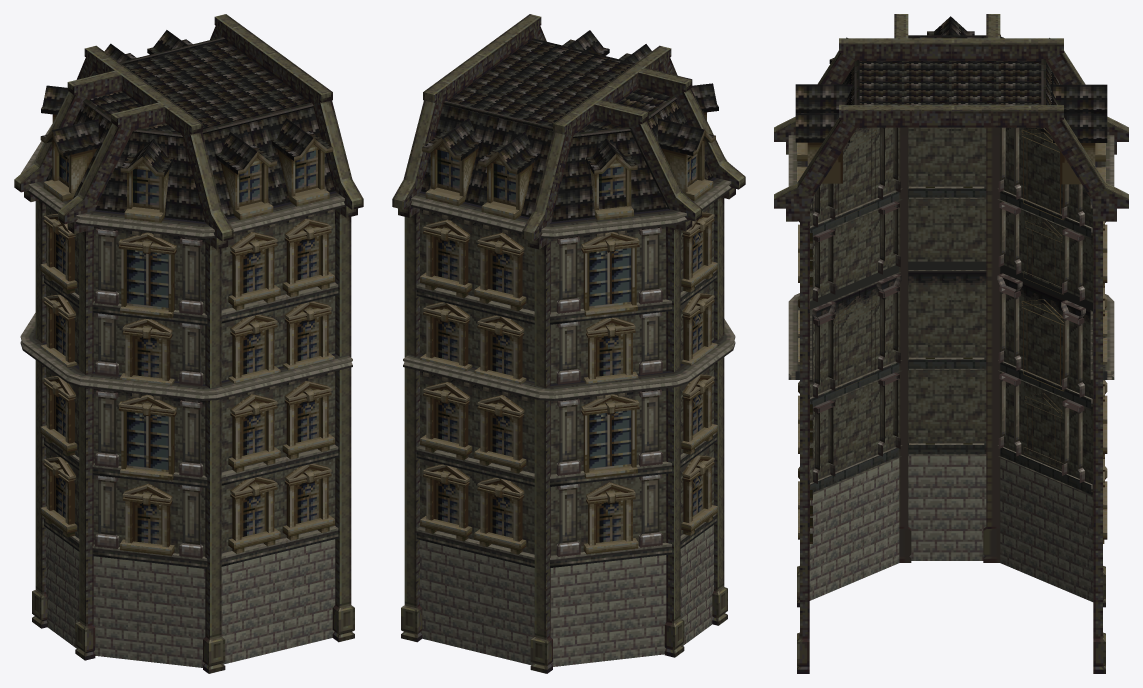
File: EnvBdgMD_City_B_Outdoor_L_G_Arrange_A.FBX
3 views of the same model, side by side, from view 1: azimuth 30°, elevation 25°; view 2: azimuth 150°, elevation 25°; view 3: azimuth 270°, elevation 25° (orthographic). The views are drawn at different scales.
Parts seen in each view (by area): view 1: EnvBdgMD_City_B_Outdoor_L_G_Arrange_A; view 2: EnvBdgMD_City_B_Outdoor_L_G_Arrange_A; view 3: EnvBdgMD_City_B_Outdoor_L_G_Arrange_A.
Boxes of the visible parts, x1,y1,x2,y2 form: EnvBdgMD_City_B_Outdoor_L_G_Arrange_A: (14, 14, 363, 673); EnvBdgMD_City_B_Outdoor_L_G_Arrange_A: (392, 14, 745, 673); EnvBdgMD_City_B_Outdoor_L_G_Arrange_A: (774, 14, 1128, 673).
Bounding box in the file's own units: 631 × 1313 × 751.
1 material, 1 textured.
